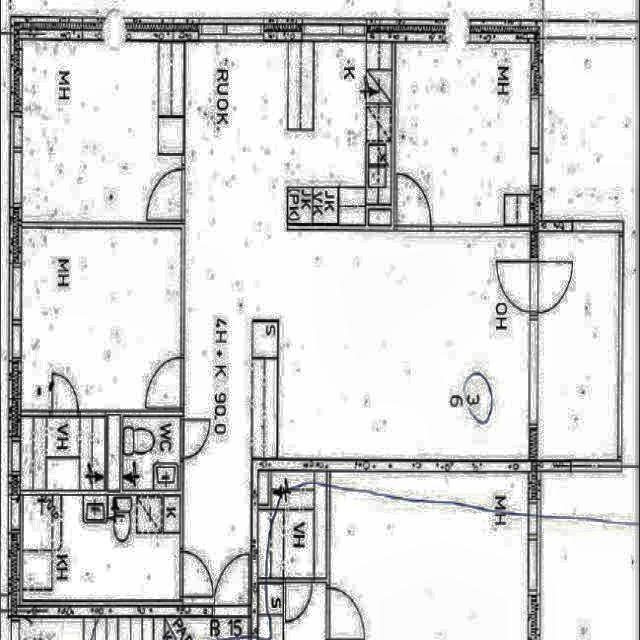room: (22, 229, 181, 410), (395, 43, 531, 225), (537, 232, 618, 459), (21, 496, 180, 602), (258, 471, 326, 577), (21, 417, 105, 490), (123, 417, 180, 490)
